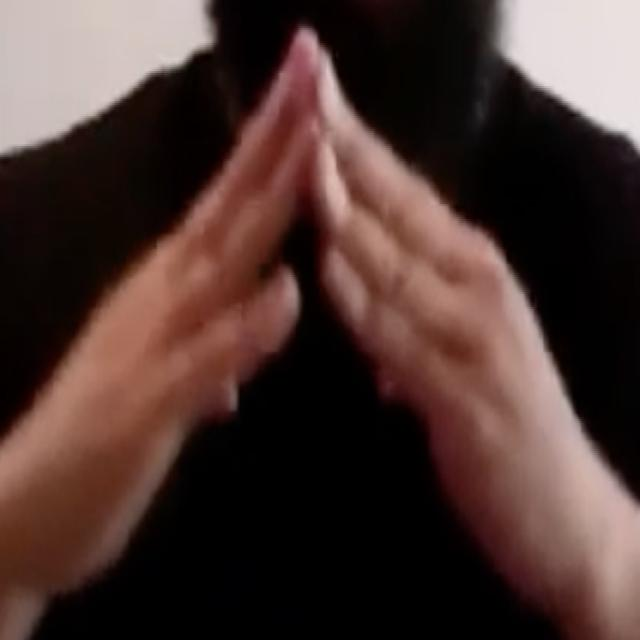casa: (25, 28, 607, 574)
